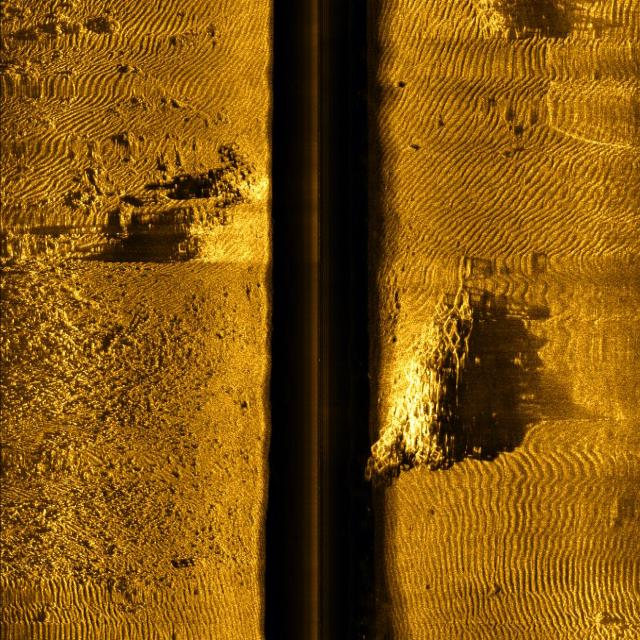artificial reef: (357, 279, 488, 486)
